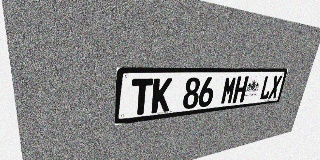6: (197, 77, 216, 108)
8: (182, 77, 202, 109)
H: (232, 76, 249, 103)
K: (151, 78, 173, 113)
L: (259, 75, 274, 100)
M: (220, 76, 238, 105)
T: (130, 78, 153, 116)
X: (268, 75, 282, 99)
